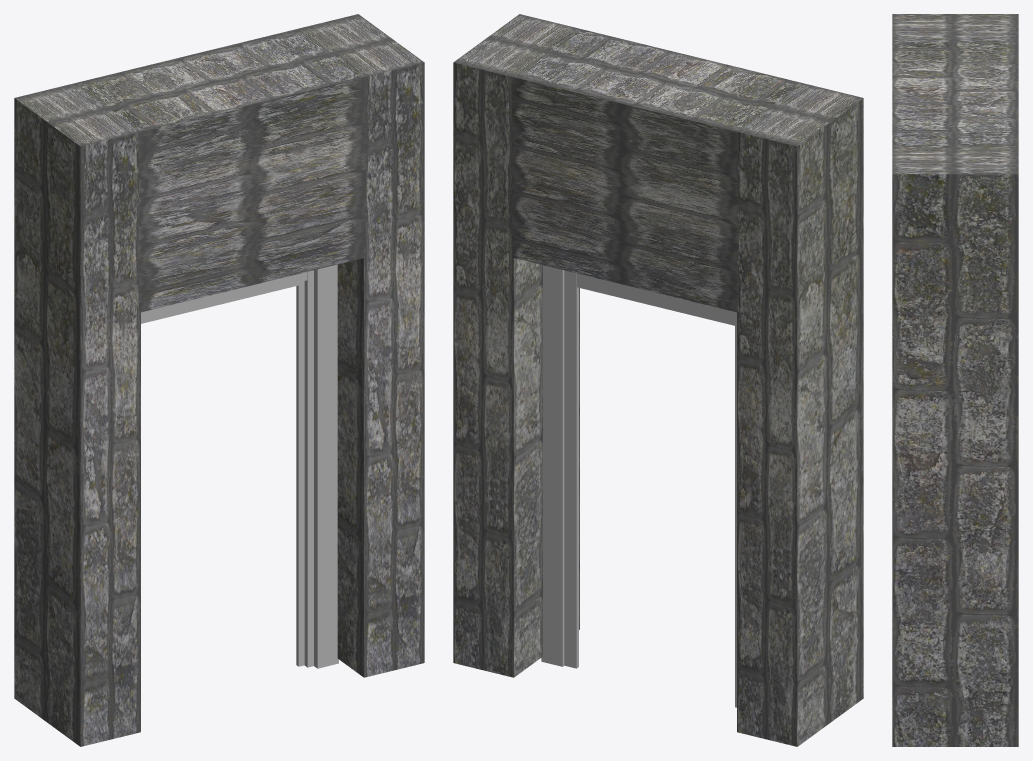
The model's file is DoorFrame_1.fbx.
3 views of the same model, side by side, from view 1: azimuth 30°, elevation 25°; view 2: azimuth 150°, elevation 25°; view 3: azimuth 270°, elevation 25° (orthographic). The views are drawn at different scales.
Parts seen in each view (by area): view 1: Cube.002, Rama; view 2: Cube.002, Rama; view 3: Cube.002.
Part boxes in pixels (x1,y1,x2,y2): Cube.002: [14, 14, 424, 746]; Rama: [141, 264, 338, 668]; Cube.002: [453, 14, 863, 746]; Rama: [541, 265, 736, 707]; Cube.002: [892, 14, 1018, 746].
Size of the model in its own units: 600 by 1009 by 200.
